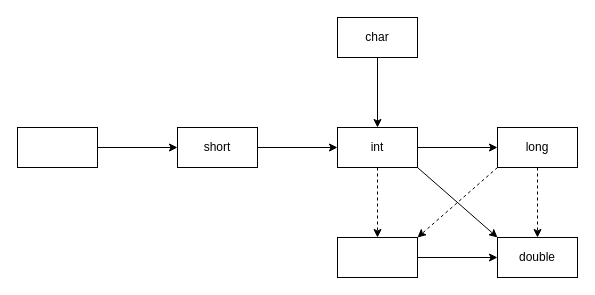
Some shapes in this 595 by 295 pixel diagram are drawn without their labels. Each missing label, with the centre of its shape:
"byte" goes at pixel 57 147.
"float" goes at pixel 377 257.
